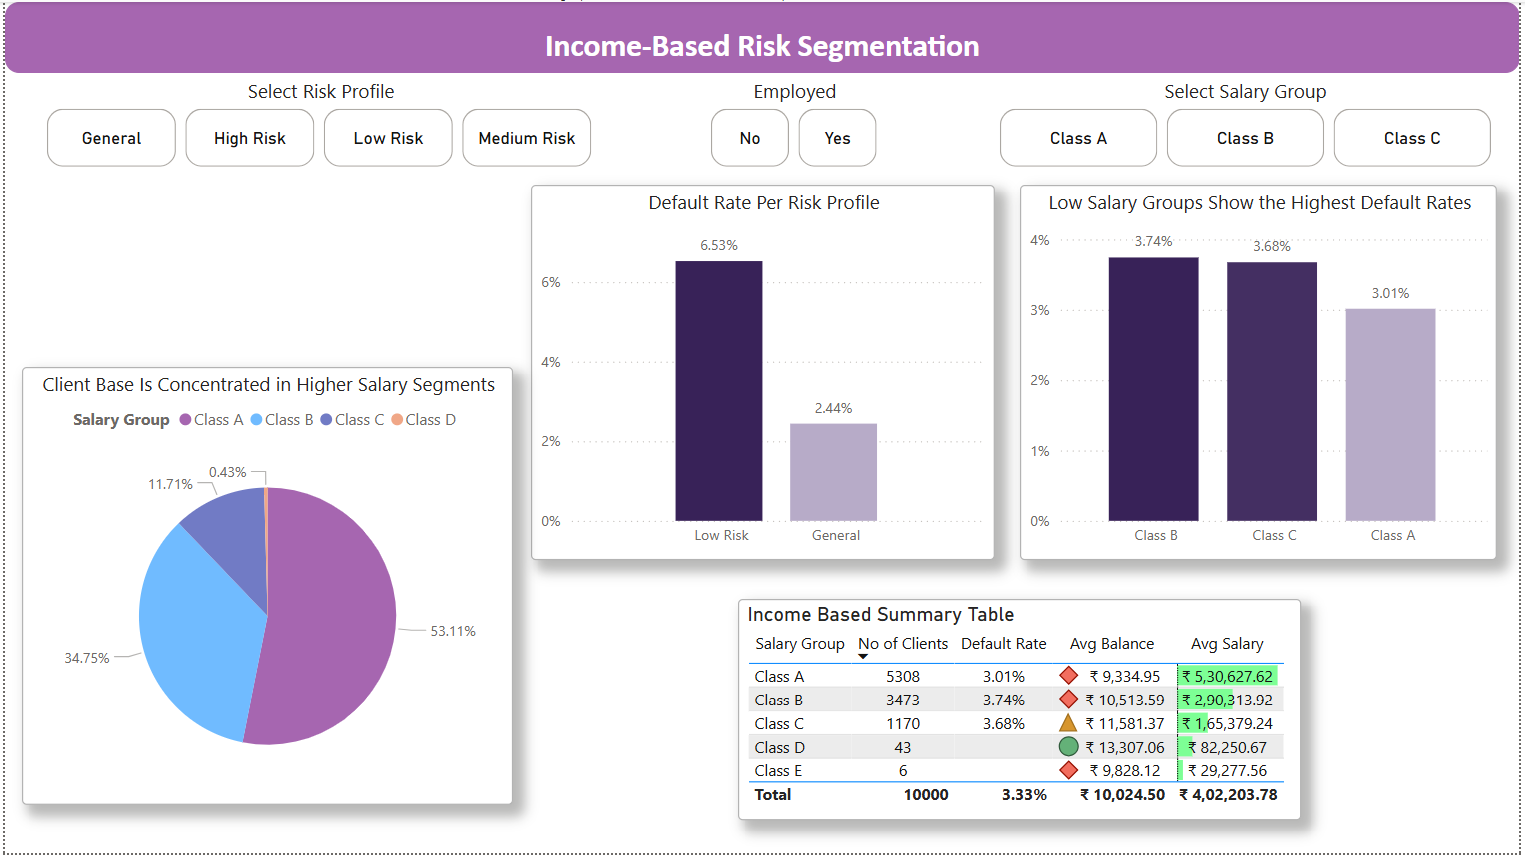

The dashboard page shown, as its layout file describes it:
{"tool":"powerbi","page":{"name":"Income-Based Risk Segmentation","canvas":[1280,720],"ordinal":1},"visuals":[{"type":"textbox","box":[0,0,1280,59.7],"z":1000},{"type":"advancedSlicerVisual","title":"Select Salary Group","fields":{"Values":["f_Default_Fin.Salary Group"]},"box":[836,64.3,425.3,80.4],"z":2000},{"type":"columnChart","title":"Default Rate Per Risk Profile","fields":{"Category":["f_Default_Fin.Risk Profile"],"Y":["Measures_table.m_% of Defaulters"]},"box":[444.3,154.9,391.7,317.1],"z":3000},{"type":"pieChart","title":"Client Base Is Concentrated in Higher Salary Segments","fields":{"Y":["Measures_table.m_No of Clients"],"Category":["f_Default_Fin.Salary Group"]},"box":[14.6,308.4,415.1,369.8],"z":4000},{"type":"columnChart","title":"Low Salary Groups Show the Highest Default Rates","fields":{"Category":["f_Default_Fin.Salary Group"],"Y":["Measures_table.m_% of Defaulters"]},"box":[857.9,154.9,403.4,317.1],"z":5000},{"type":"tableEx","title":"Income Based Summary Table","fields":{"Values":["f_Default_Fin.Salary Group","Measures_table.m_No of Clients","Measures_table.m_% of Defaulters","Measures_table.m_Avg Balance","Measures_table.m_Avg Salary"]},"box":[619.7,504.2,476.4,187.1],"z":6000},{"type":"advancedSlicerVisual","title":"Employed","fields":{"Values":["f_Default_Fin.Employed Status"]},"box":[591.9,64.3,152,80.4],"z":7000},{"type":"advancedSlicerVisual","title":"Select Risk Profile","fields":{"Values":["f_Default_Fin.Risk Profile"]},"box":[30.7,64.3,473.5,80.4],"z":8000}]}

Visuals, with their boxes in screenshot pixels (x1, y1, x2, y2), scaled from the page's 1280x720 canvas onto the 1525x856 screenshot:
textbox: BBox(0, 0, 1524, 71)
"Select Salary Group" advancedSlicerVisual: BBox(996, 76, 1503, 172)
"Default Rate Per Risk Profile" columnChart: BBox(529, 184, 996, 561)
"Client Base Is Concentrated in Higher Salary Segments" pieChart: BBox(17, 367, 512, 806)
"Low Salary Groups Show the Highest Default Rates" columnChart: BBox(1022, 184, 1503, 561)
"Income Based Summary Table" tableEx: BBox(738, 599, 1306, 822)
"Employed" advancedSlicerVisual: BBox(705, 76, 886, 172)
"Select Risk Profile" advancedSlicerVisual: BBox(37, 76, 601, 172)
